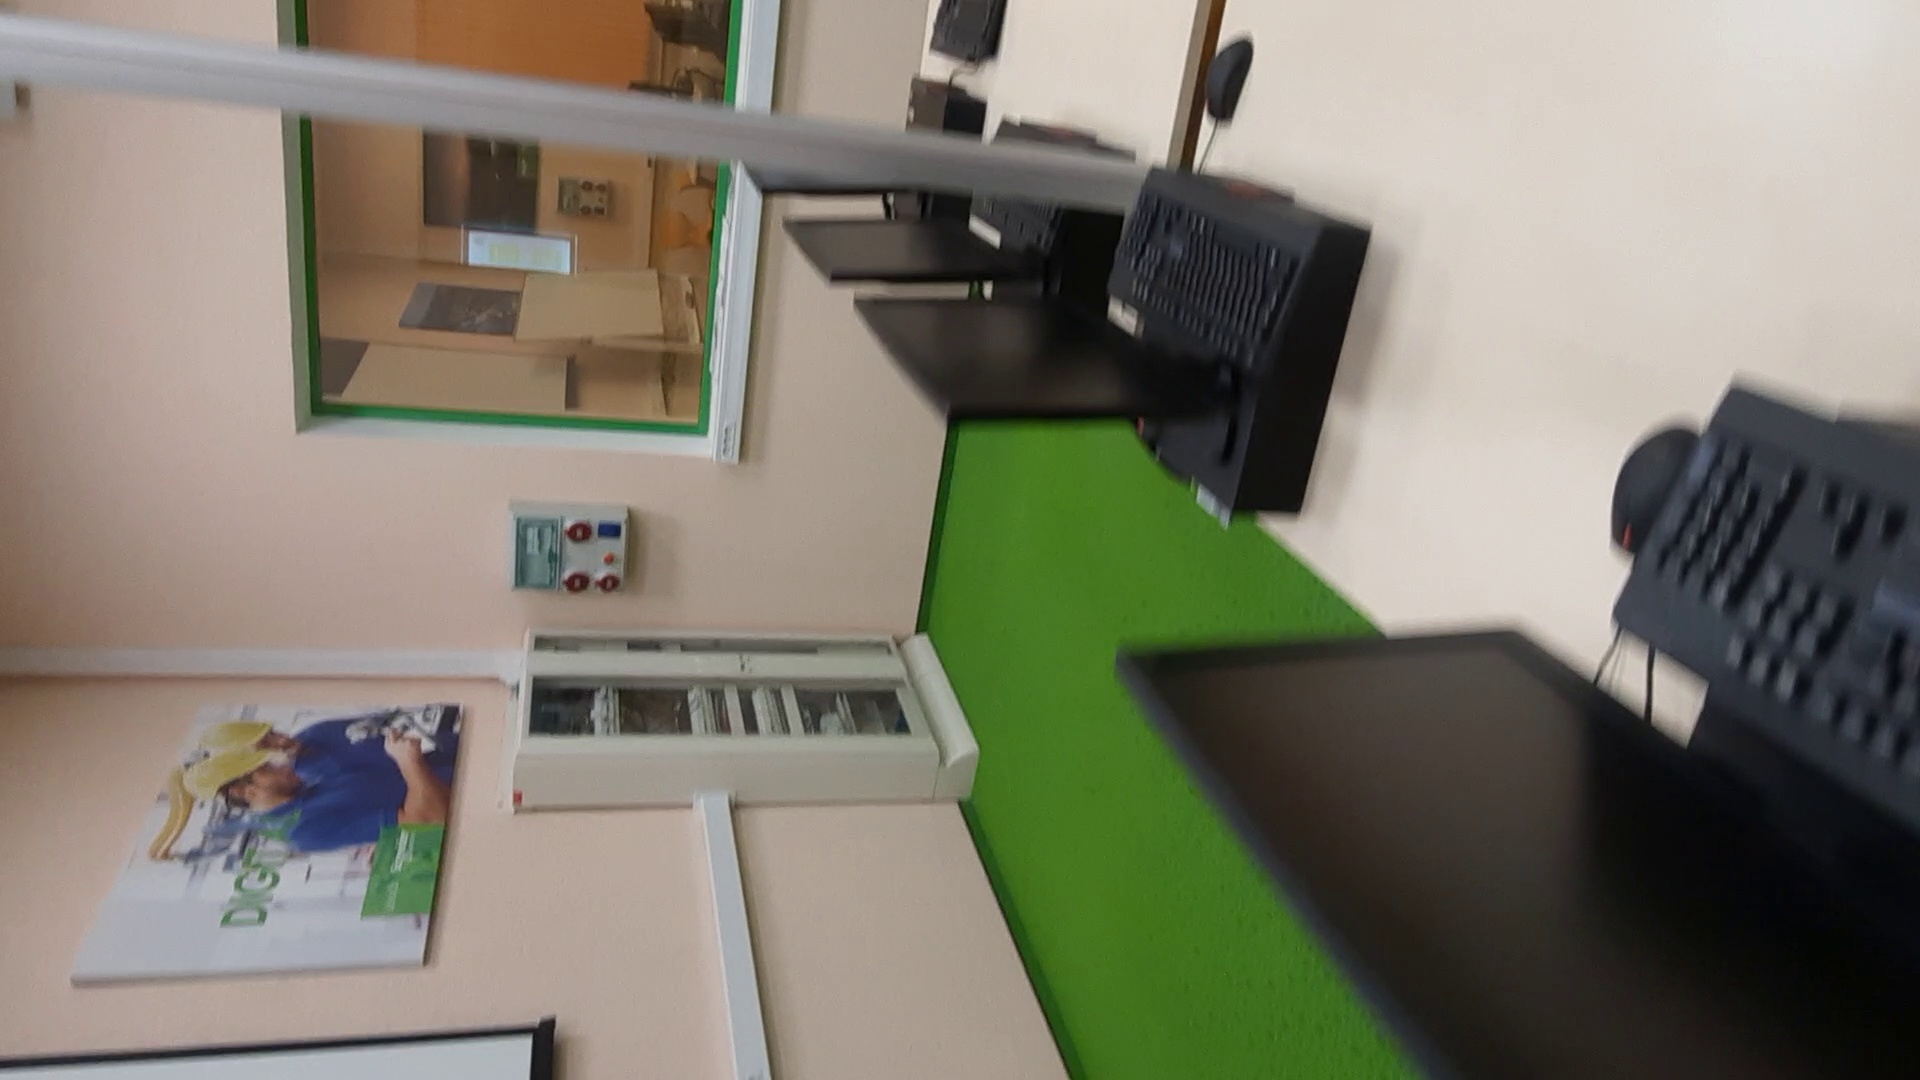stand1: (500, 622, 975, 808)
